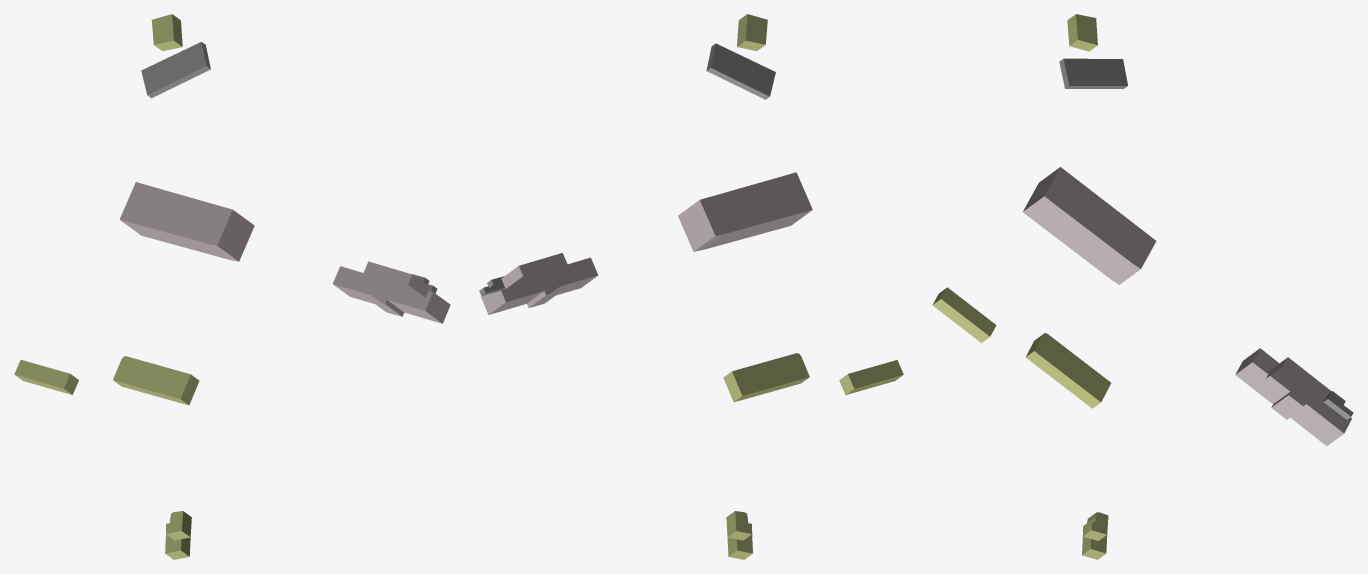
The picture shows the model from 3 angles, left to right: view 1: azimuth 30°, elevation 25°; view 2: azimuth 150°, elevation 25°; view 3: azimuth 330°, elevation 25°; orthographic projection.
Parts seen in each view (by area): view 1: 0_1_0_0_2_2_1; view 2: 0_1_0_0_2_2_1; view 3: 0_1_0_0_2_2_1.
Part boxes in pixels (bbox=[...]): 0_1_0_0_2_2_1: bbox=[14, 14, 450, 559]; 0_1_0_0_2_2_1: bbox=[479, 14, 903, 559]; 0_1_0_0_2_2_1: bbox=[932, 14, 1353, 559].
Size of the model in its own units: 165 by 203 by 15.4.
